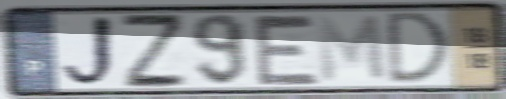9: (190, 12, 250, 89)
D: (386, 10, 452, 87)
E: (250, 12, 323, 87)
J: (58, 12, 122, 90)
M: (314, 12, 390, 85)
Z: (117, 12, 191, 91)
